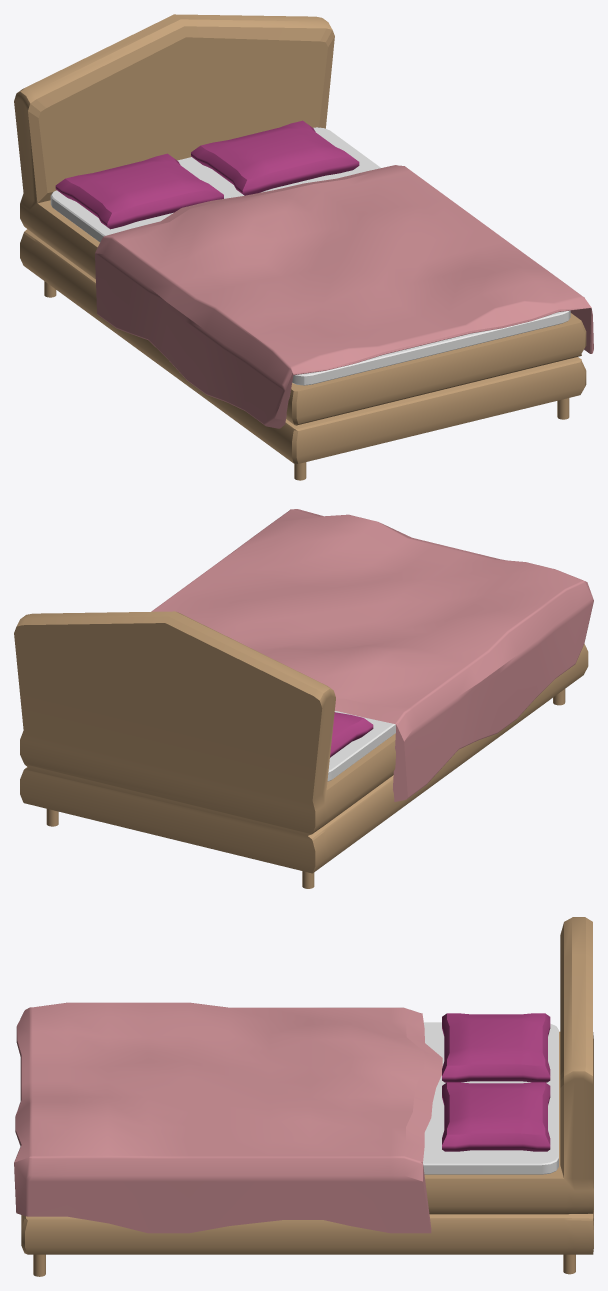
File: bed_fancy_nieuwestijl.fbx
3 views of the same model, one above another, from view 1: azimuth 30°, elevation 25°; view 2: azimuth 150°, elevation 25°; view 3: azimuth 270°, elevation 25° (orthographic). The views are drawn at different scales.
Visible parts, largest first — view 1: pPlane3; view 2: pPlane3; view 3: pPlane3.
Part boxes in pixels (x1,y1,x2,y2): pPlane3: [14, 14, 593, 480]; pPlane3: [14, 509, 593, 888]; pPlane3: [14, 917, 593, 1276].
Bounding box in the file's own units: 3.05 × 2.26 × 4.69.
